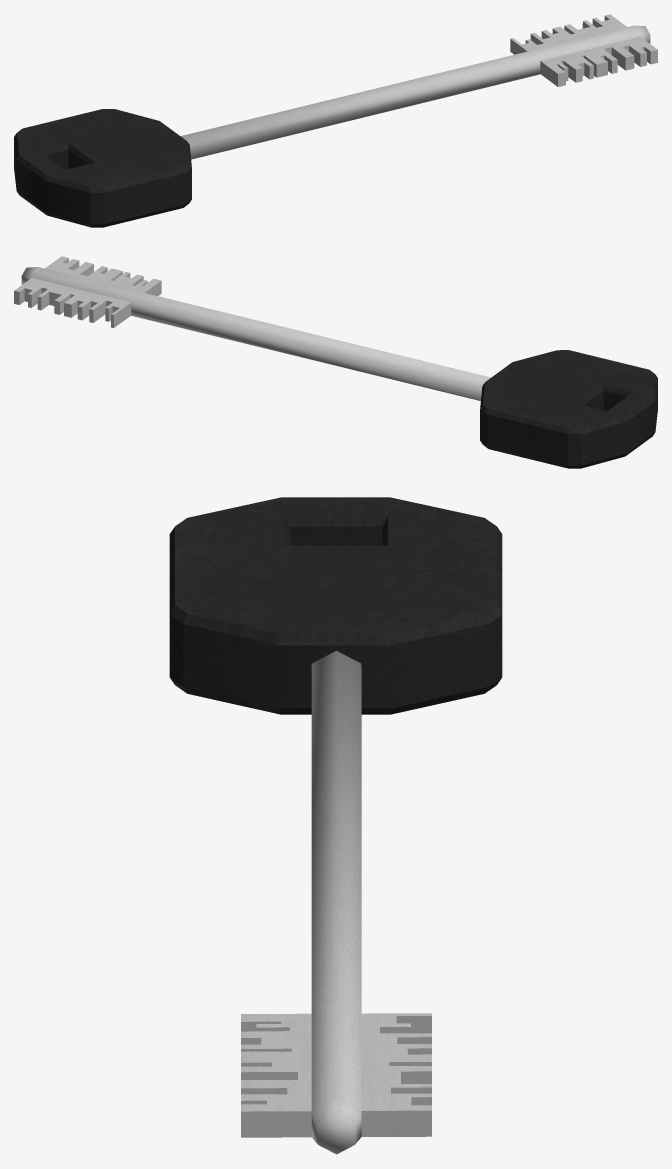
Rendered from key5.FBX.
3 views of the same model, one above another, from view 1: azimuth 30°, elevation 25°; view 2: azimuth 150°, elevation 25°; view 3: azimuth 270°, elevation 25° (orthographic). The views are drawn at different scales.
Parts seen in each view (by area): view 1: mesh; view 2: mesh; view 3: mesh.
Part boxes in pixels (x1,y1,x2,y2): mesh: (14,14,657,227); mesh: (14,256,657,468); mesh: (169,497,502,1154).
Size of the model in its own units: 63.84 by 3.99 by 14.97.
Materials: 2 (2 with a texture image).
